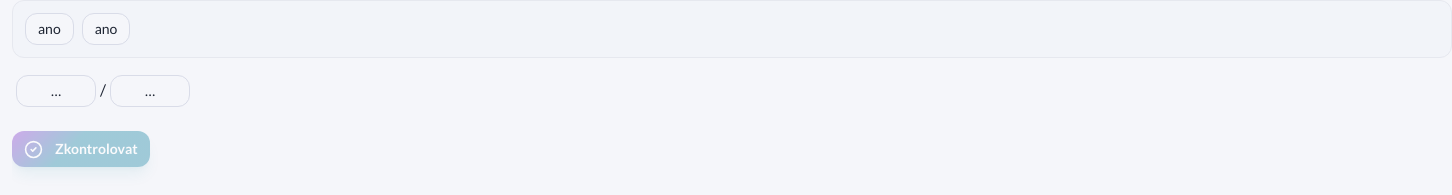
banka slov doplňování › tokeny zachovávají více výskytů stejného slova
This screenshot has width=1452, height=195.
Click the 1st button "ano".
click(49, 29)  # box [25,13,74,45]
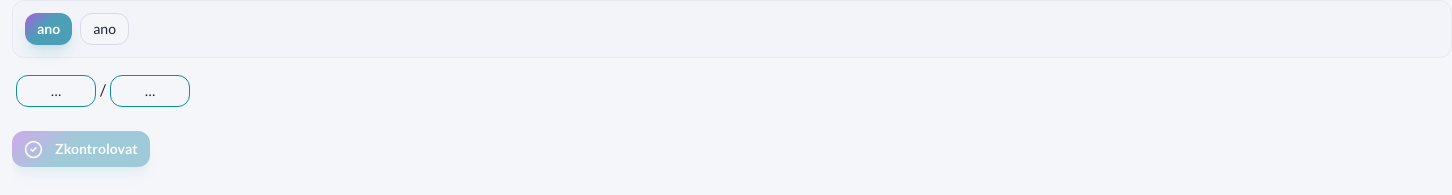
Click the button named "Mezera 1".
click(56, 91)  # box [16,75,96,107]
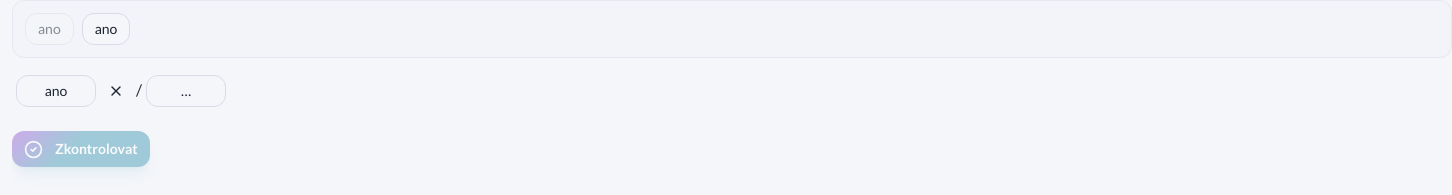
Now the 1st button "ano" is disabled, box [25,13,74,45]
Click the 2nd button "ano".
click(106, 29)  # box [82,13,130,45]
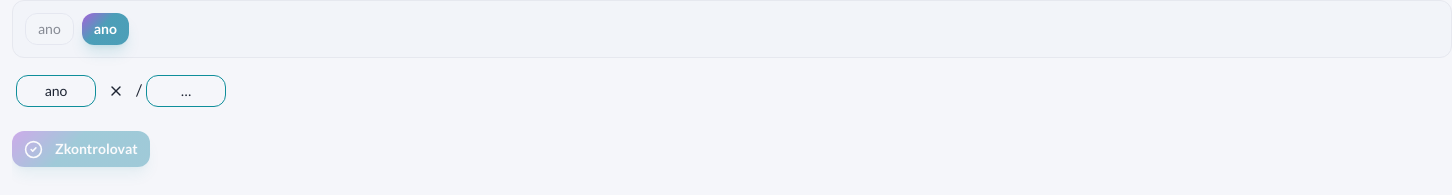
Click the button named "Mezera 2".
click(186, 91)  # box [146,75,226,107]
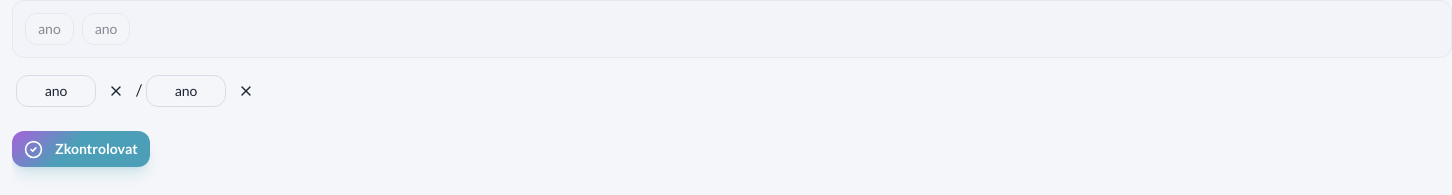
Now the button "Zkontrolovat" is enabled, box [12,131,150,167]
